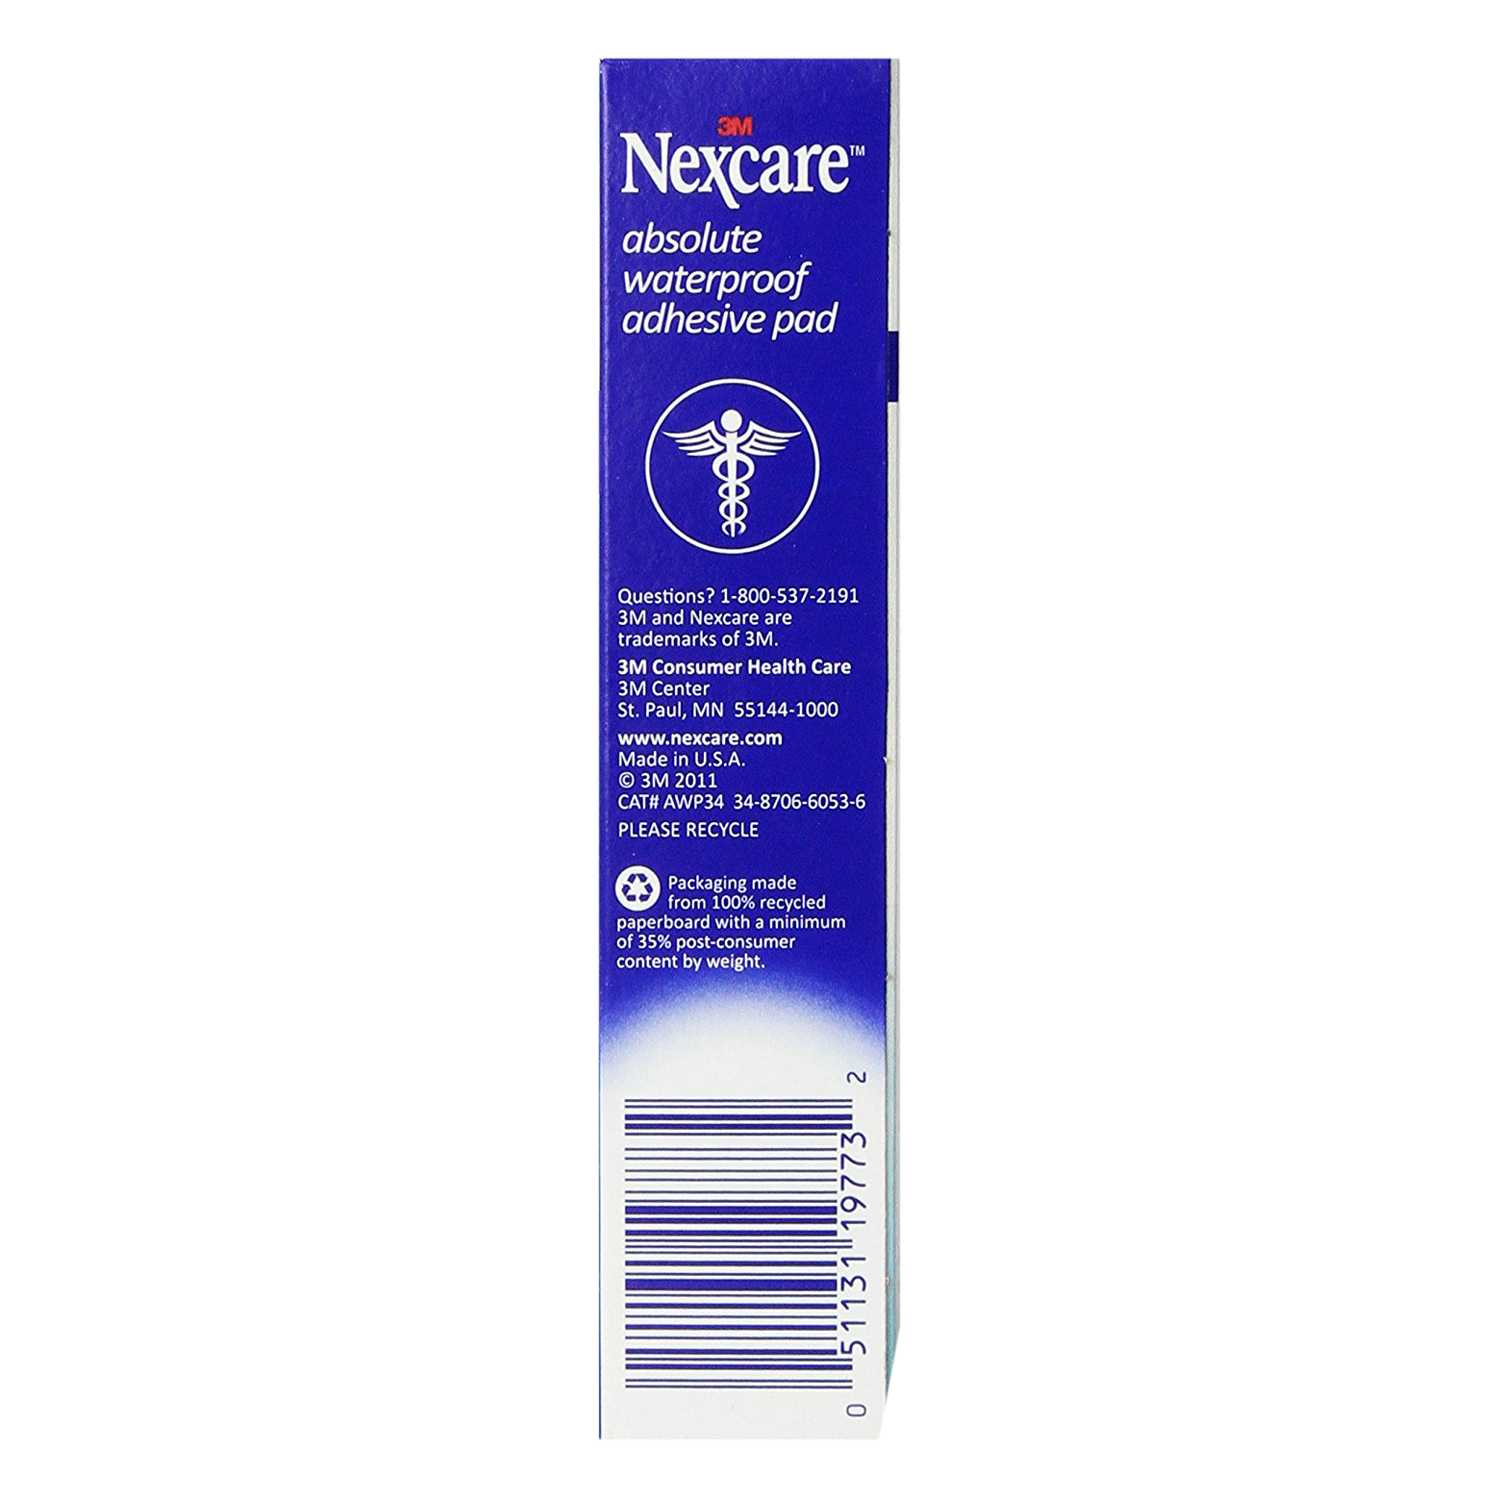3M: (710, 109, 755, 136)
